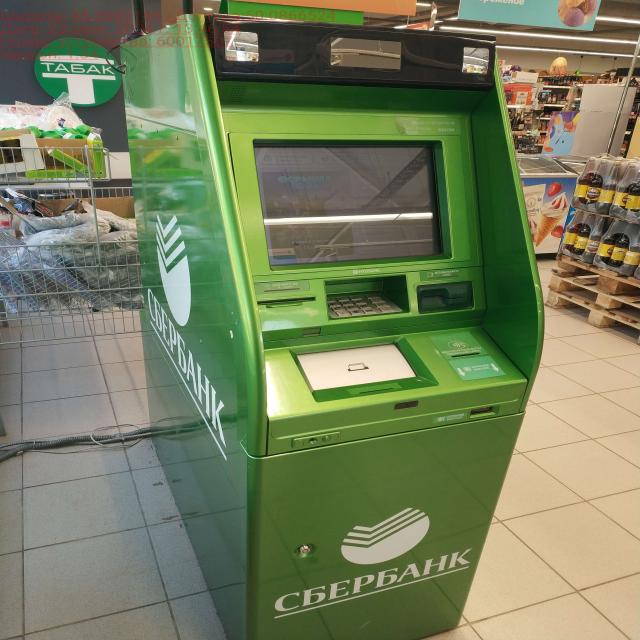bank: (120, 13, 550, 640)
